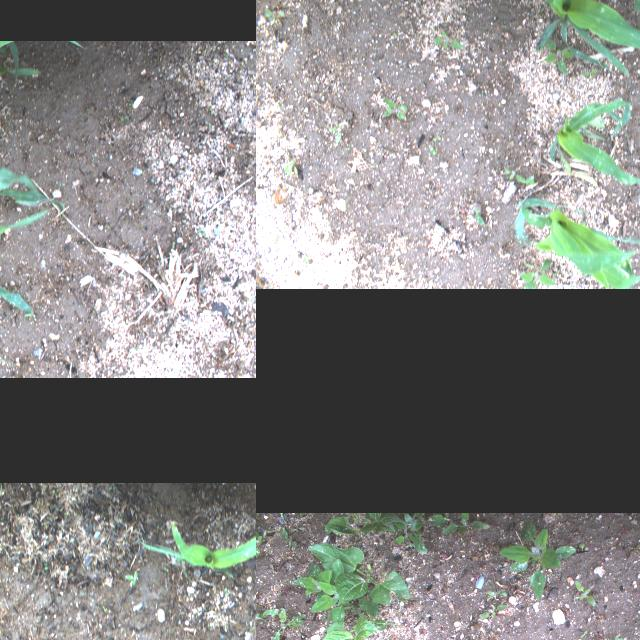crop: (0, 41, 83, 194), (0, 188, 65, 363), (514, 199, 640, 289), (306, 542, 412, 620), (549, 96, 640, 185), (534, 0, 640, 76), (140, 520, 256, 579), (559, 0, 640, 52), (0, 278, 32, 377), (324, 512, 406, 538), (318, 614, 389, 640)
weed: (499, 520, 575, 600), (291, 558, 373, 628), (388, 513, 450, 555), (325, 598, 397, 630), (542, 36, 574, 74), (269, 608, 305, 640), (441, 513, 489, 535), (519, 260, 555, 288), (432, 29, 464, 49), (380, 98, 408, 120), (503, 166, 535, 184), (256, 528, 273, 560), (264, 2, 286, 26), (574, 580, 594, 606), (478, 602, 506, 620), (280, 525, 296, 553), (256, 606, 277, 625), (328, 123, 346, 143), (486, 584, 506, 602), (625, 542, 640, 556), (473, 210, 485, 227), (582, 70, 598, 82), (276, 558, 288, 574), (22, 310, 36, 322), (284, 162, 296, 176), (125, 572, 137, 586), (408, 546, 422, 558), (485, 630, 500, 640), (402, 598, 416, 608), (290, 525, 306, 533), (266, 563, 278, 573), (50, 102, 58, 116), (578, 628, 588, 638), (292, 556, 302, 566), (518, 592, 528, 602), (40, 520, 48, 530), (562, 612, 572, 620), (560, 605, 568, 615), (256, 512, 263, 523), (118, 115, 130, 121), (303, 252, 309, 264), (429, 147, 437, 155), (154, 524, 162, 532), (489, 569, 497, 577), (478, 562, 486, 570), (197, 228, 206, 235), (170, 240, 176, 250), (42, 561, 48, 571), (204, 120, 212, 126), (432, 136, 440, 142), (40, 488, 46, 496), (32, 496, 38, 504), (62, 510, 70, 516), (504, 624, 512, 630), (471, 574, 479, 580), (248, 626, 255, 632), (50, 488, 60, 492), (224, 586, 228, 596), (127, 100, 133, 106), (140, 169, 146, 175), (154, 502, 160, 508), (101, 605, 107, 611), (208, 107, 212, 115), (264, 552, 268, 560), (7, 116, 11, 122), (58, 182, 61, 190), (220, 492, 224, 498), (40, 498, 44, 504), (184, 502, 190, 506), (118, 516, 122, 522), (162, 566, 168, 570), (204, 484, 210, 488), (217, 483, 223, 487), (0, 515, 4, 520), (86, 109, 90, 113), (189, 492, 193, 496), (212, 484, 214, 488)
